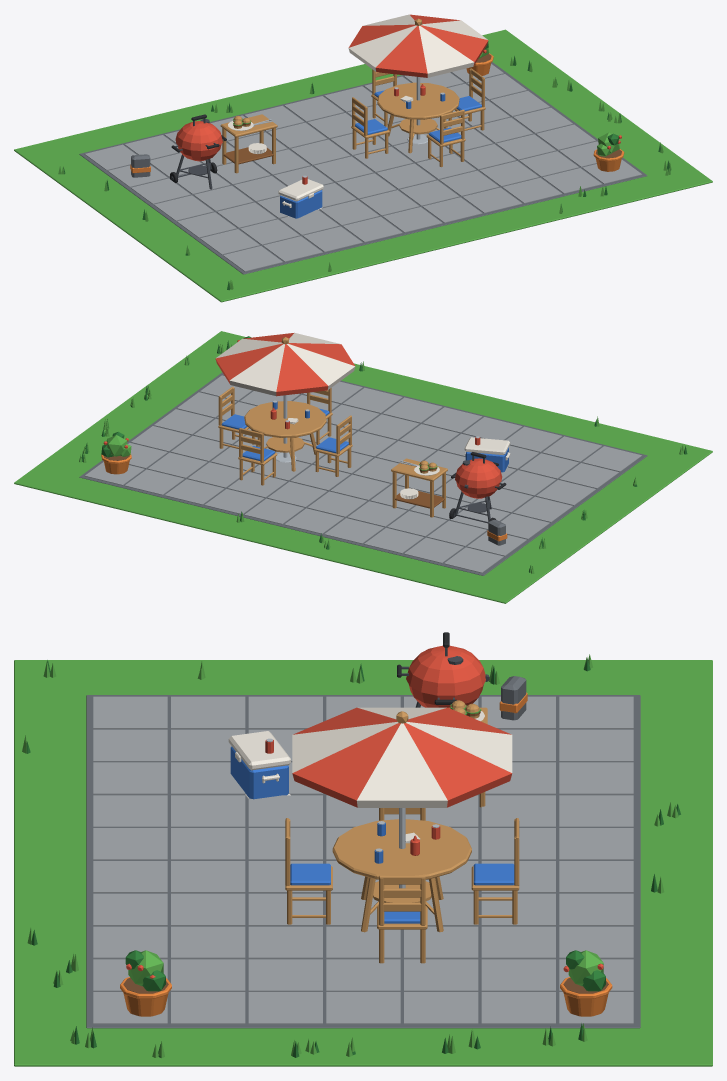
The model's file is backyard-bbq-patio.glb.
3 renders of one model, top to bottom at view 1: azimuth 30°, elevation 25°; view 2: azimuth 150°, elevation 25°; view 3: azimuth 270°, elevation 25°, orthographic. The views are drawn at different scales.
Visible parts, largest first — view 1: Patio_Ground, Patio_Table, Side_Table, Chair_1, Grill_Lid, Chair_4, Kettle_Grill, Chair_2, Planter_B, Cooler, Cooler_Lid, Chair_3; view 2: Patio_Ground, Patio_Table, Side_Table, Grill_Lid, Chair_3, Chair_4, Planter_A, Kettle_Grill, Chair_2, Cooler_Lid, Chair_1; view 3: Patio_Ground, Patio_Table, Grill_Lid, Chair_2, Planter_A, Planter_B, Chair_3, Chair_1, Cooler, Cooler_Lid, Charcoal_Bag, Kettle_Grill.
Part boxes in pixels (x1,y1,x2,y2): Patio_Ground: (14,29,712,302); Patio_Table: (348,14,488,153); Side_Table: (220,114,277,173); Chair_1: (426,109,465,167); Grill_Lid: (175,114,222,150); Chair_4: (351,97,389,158); Kettle_Grill: (169,135,226,189); Chair_2: (448,68,485,134); Planter_B: (593,132,624,171); Cooler: (280,190,322,218); Cooler_Lid: (278,175,323,201); Chair_3: (371,69,396,126); Patio_Ground: (14,331,712,603); Patio_Table: (215,332,355,471); Side_Table: (391,458,447,517); Grill_Lid: (455,452,502,488); Chair_3: (238,428,277,485); Chair_4: (314,415,352,476); Planter_A: (101,431,131,474); Kettle_Grill: (449,473,506,523); Chair_2: (218,386,255,452); Cooler_Lid: (464,436,510,455); Chair_1: (307,388,332,444); Patio_Ground: (14,654,712,1066); Patio_Table: (292,707,512,932); Grill_Lid: (397,632,489,695); Chair_2: (377,875,427,963); Planter_A: (560,950,612,1016); Planter_B: (120,950,171,1016); Chair_3: (471,818,519,924); Chair_1: (285,818,332,924); Cooler: (230,746,290,799); Cooler_Lid: (228,731,290,770); Charcoal_Bag: (499,676,527,720); Kettle_Grill: (409,685,483,707).
Size of the model in its own units: 37 by 8.88 by 27.
